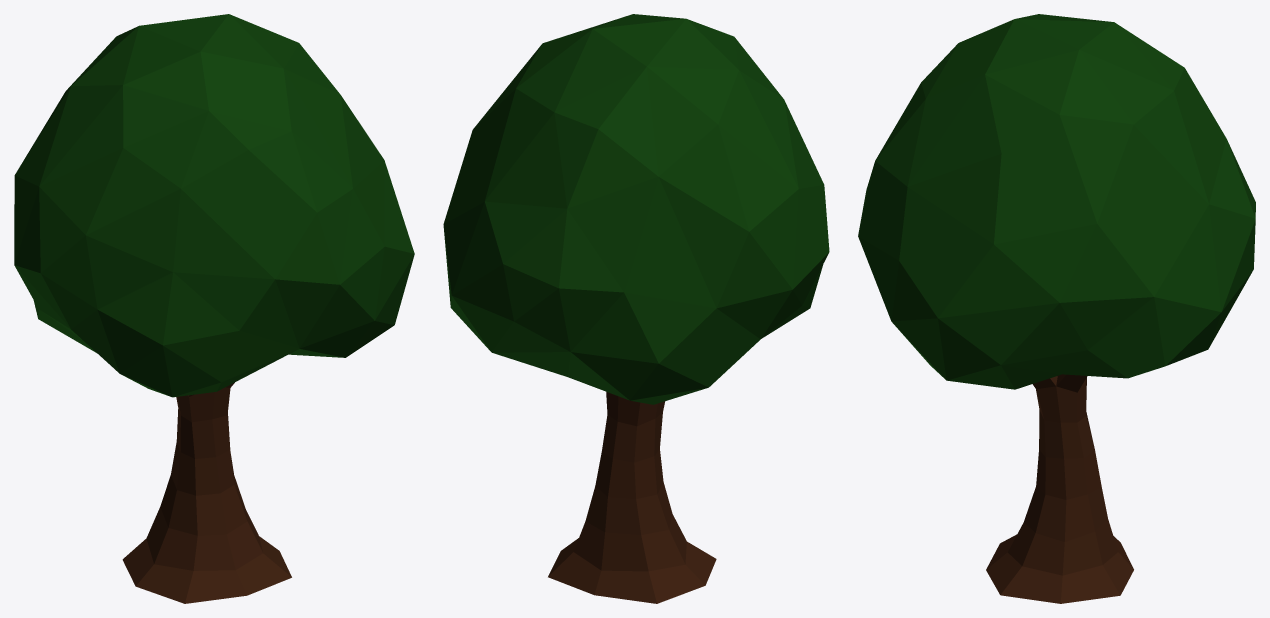
The model's file is trees.obj.
3 renders of one model, left to right at view 1: azimuth 30°, elevation 25°; view 2: azimuth 150°, elevation 25°; view 3: azimuth 270°, elevation 25°, orthographic.
Visible parts, largest first — view 1: LowPoly_Tree_01_Plane_Plane.000; view 2: LowPoly_Tree_01_Plane_Plane.000; view 3: LowPoly_Tree_01_Plane_Plane.000.
Boxes of the visible parts, x1,y1,x2,y2 form: LowPoly_Tree_01_Plane_Plane.000: (14, 14, 414, 603); LowPoly_Tree_01_Plane_Plane.000: (443, 14, 829, 603); LowPoly_Tree_01_Plane_Plane.000: (858, 14, 1255, 603).
Size of the model in its own units: 1.35 by 2 by 1.34.
